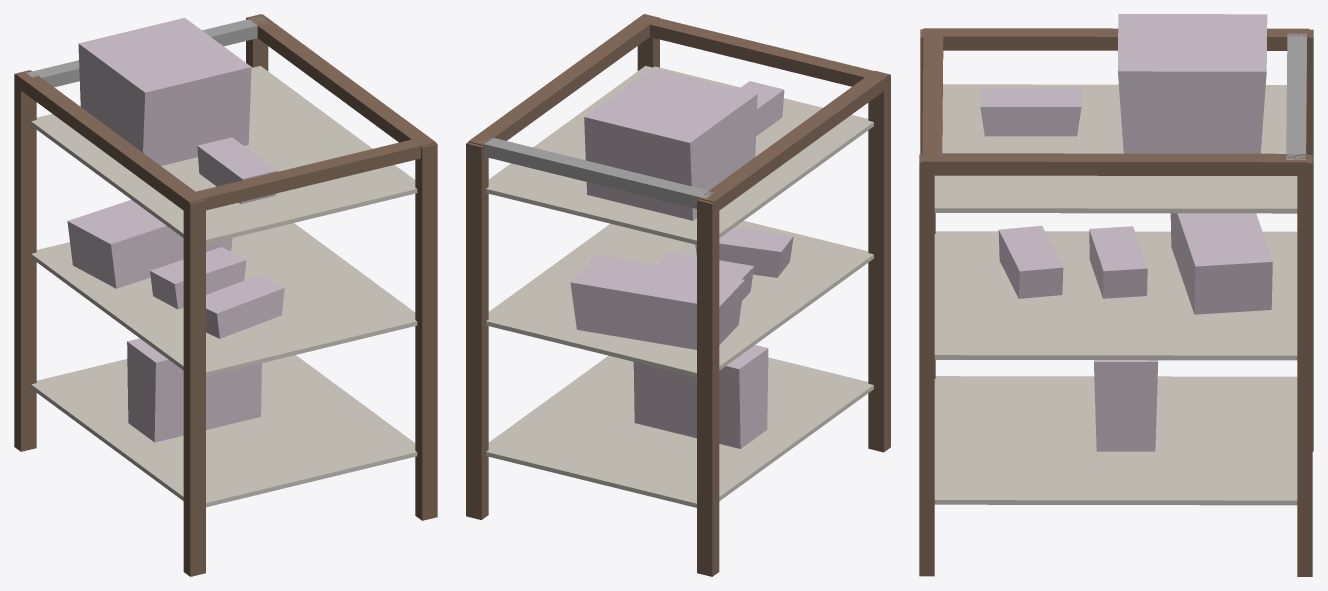
Rendered from StorageUnit.fbx.
The picture shows the model from 3 angles, left to right: view 1: azimuth 30°, elevation 25°; view 2: azimuth 150°, elevation 25°; view 3: azimuth 270°, elevation 25°; orthographic projection. The views are drawn at different scales.
Parts seen in each view (by area): view 1: StorageUnit; view 2: StorageUnit; view 3: StorageUnit.
Boxes of the visible parts, x1,y1,x2,y2 form: StorageUnit: (14,14,437,576); StorageUnit: (466,14,890,576); StorageUnit: (919,14,1313,576).
Bounding box in the file's own units: 75.31 × 118 × 93.61.
